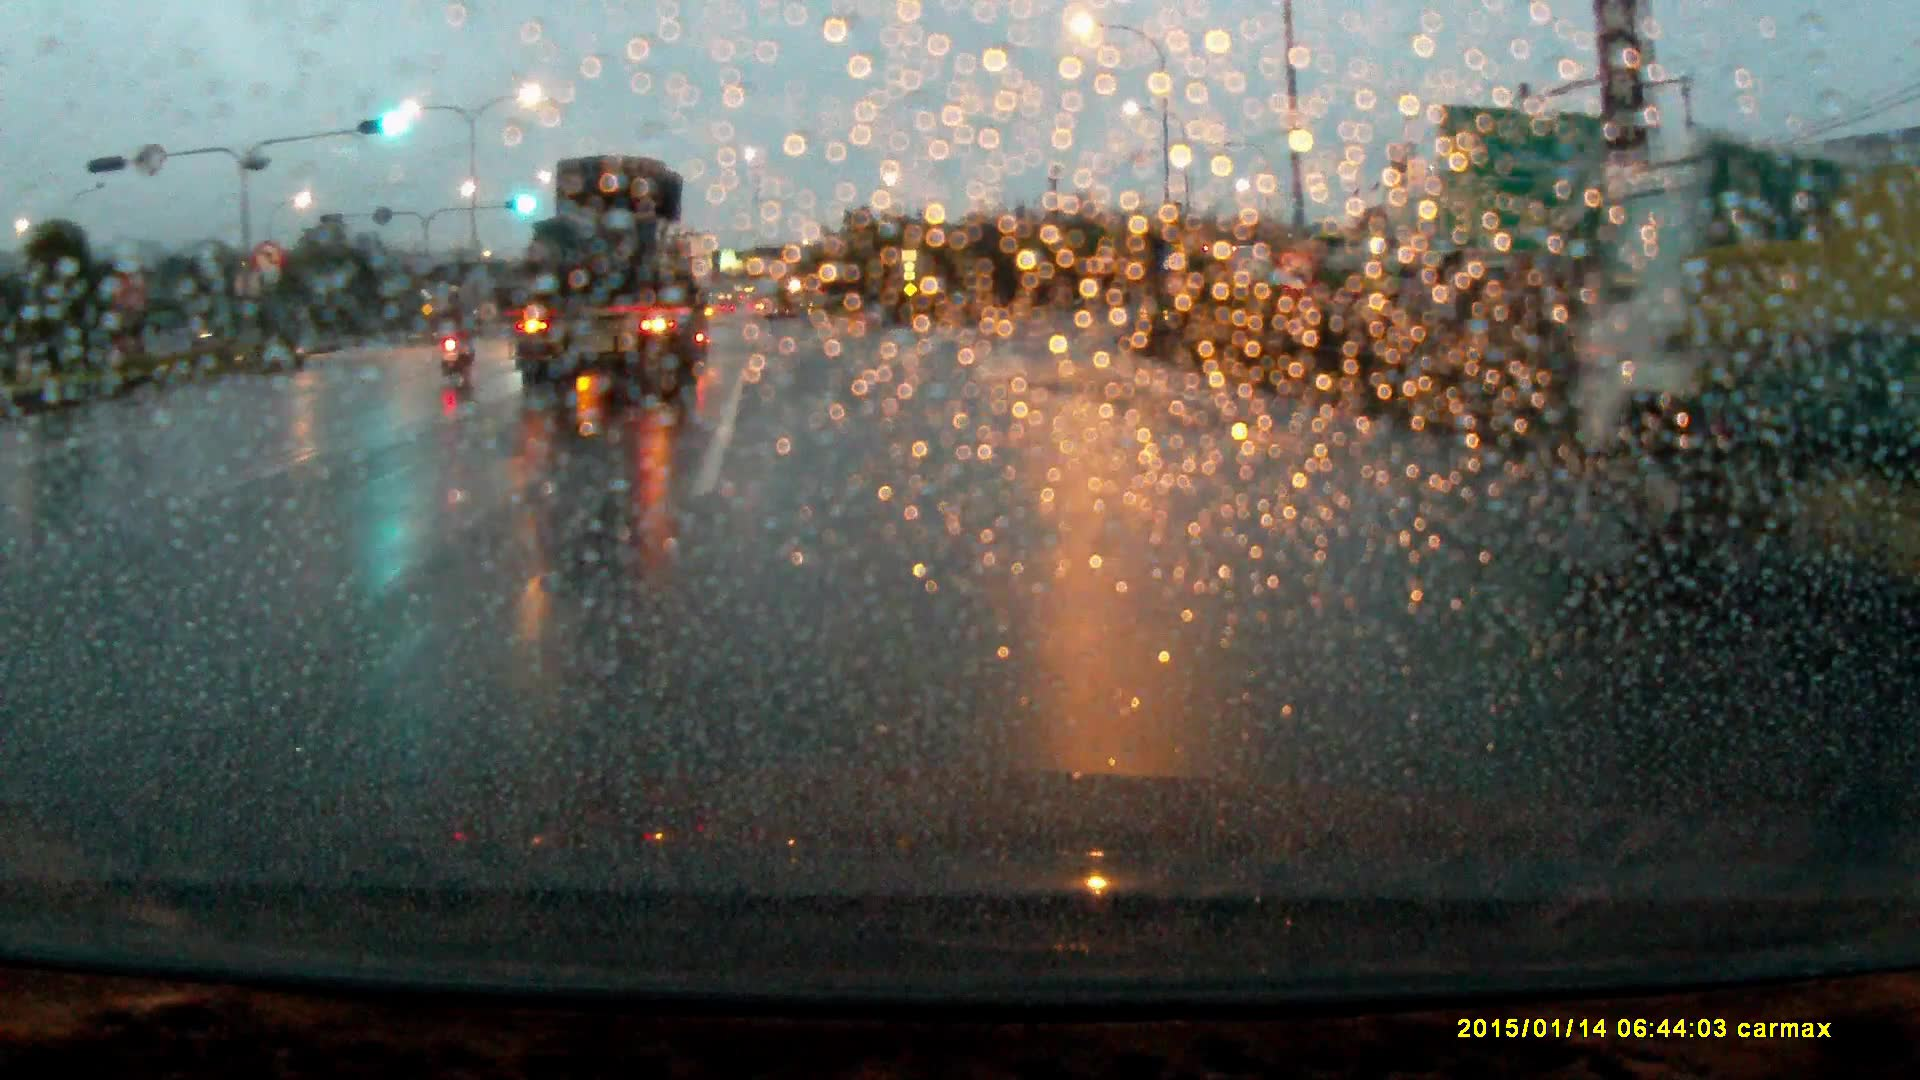rider: (426, 281, 477, 391)
vehicle: (1583, 129, 1920, 574), (510, 151, 711, 408)
